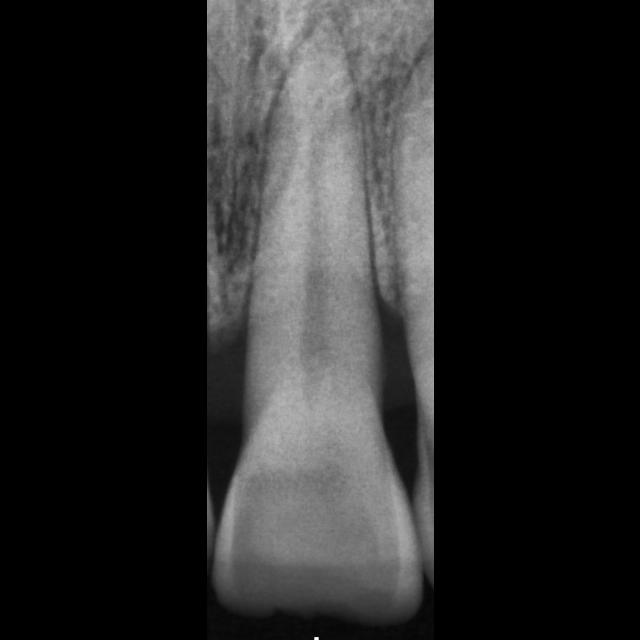tooth: (211, 20, 421, 628)
